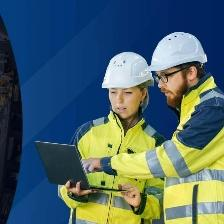Person: (65, 44, 154, 223), (148, 27, 224, 224)
helmet: (145, 30, 209, 74), (97, 43, 154, 91)
vest: (62, 113, 167, 223), (153, 79, 224, 224)
